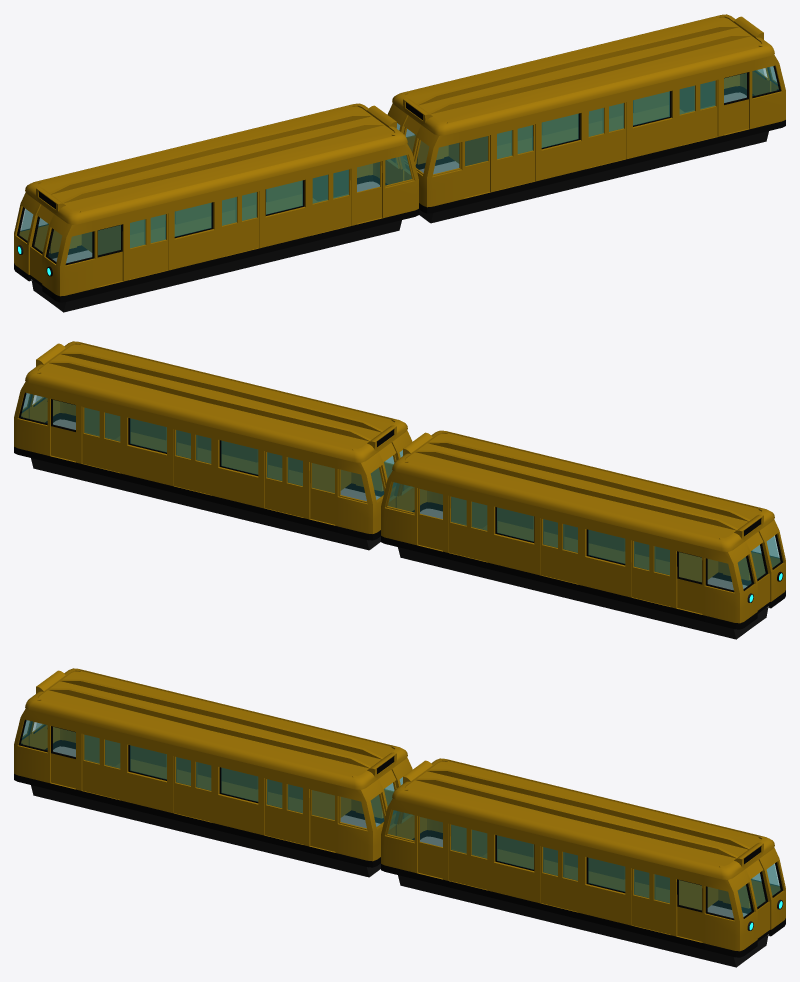
Rendered from metro.FBX.
The picture shows the model from 3 angles, top to bottom: view 1: azimuth 30°, elevation 25°; view 2: azimuth 150°, elevation 25°; view 3: azimuth 330°, elevation 25°; orthographic projection.
Visible parts, largest first — view 1: Box001, Box002, door019, door006, door005, door002, door020, door001, door023, door021, door024, door004 (+6 smaller); view 2: Box001, Box002, door013, door017, door011, door008, door014, door018, door012, door007, door010, door015 (+6 smaller); view 3: Box002, Box001, door020, door023, door002, door001, door006, door005, door019, door024, door003, door021 (+6 smaller).
Part boxes in pixels (<box>): Box001: <box>14,103,418,312</box>; Box002: <box>387,14,785,223</box>; door019: <box>515,124,534,185</box>; door006: <box>148,213,167,274</box>; door005: <box>129,218,148,279</box>; door002: <box>331,168,350,230</box>; door020: <box>496,129,515,190</box>; door001: <box>312,173,331,234</box>; door023: <box>698,79,717,141</box>; door021: <box>607,102,625,163</box>; door024: <box>679,84,697,145</box>; door004: <box>240,191,258,252</box>; Box001: <box>381,430,785,639</box>; Box002: <box>14,341,412,550</box>; door013: <box>265,451,284,512</box>; door017: <box>82,406,101,468</box>; door011: <box>651,545,670,606</box>; door008: <box>449,495,468,557</box>; door014: <box>284,456,303,517</box>; door018: <box>101,411,120,472</box>; door012: <box>632,540,651,601</box>; door007: <box>468,500,487,561</box>; door010: <box>541,518,559,579</box>; door015: <box>174,429,192,490</box>; Box002: <box>381,758,785,967</box>; Box001: <box>14,668,412,877</box>; door020: <box>449,823,468,885</box>; door023: <box>651,873,670,934</box>; door002: <box>284,783,303,844</box>; door001: <box>265,778,284,839</box>; door006: <box>101,738,120,799</box>; door005: <box>82,733,101,795</box>; door019: <box>468,828,487,889</box>; door024: <box>632,868,651,929</box>; door003: <box>174,756,192,817</box>; door021: <box>560,850,578,912</box>.
Bounding box in the file's own units: 326 × 45.42 × 37.76.
